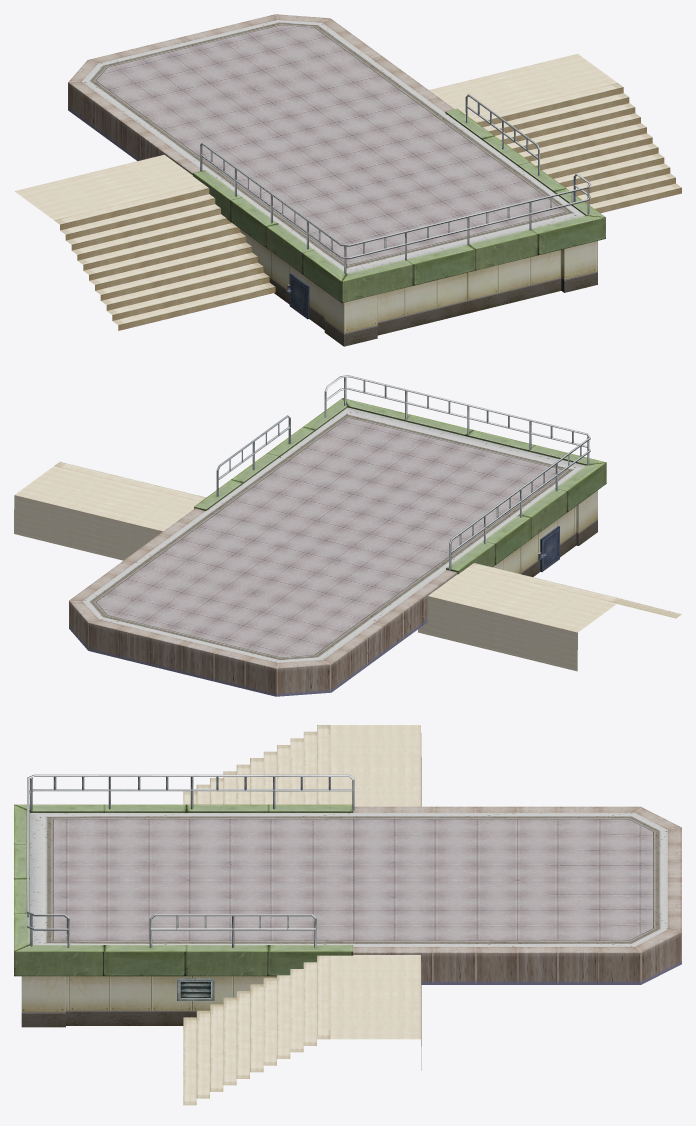
The model's file is a_SEplatform01.glb.
3 views of the same model, one above another, from view 1: azimuth 30°, elevation 25°; view 2: azimuth 150°, elevation 25°; view 3: azimuth 270°, elevation 25° (orthographic). The views are drawn at different scales.
Parts seen in each view (by area): view 1: a_SEplatform01; view 2: a_SEplatform01; view 3: a_SEplatform01.
Boxes of the visible parts, x1,y1,x2,y2 form: a_SEplatform01: (15,14,681,346); a_SEplatform01: (14,375,681,696); a_SEplatform01: (14,725,681,1105).
Size of the model in its own units: 18.1 by 3.02 by 16.27.
3 materials, 3 textured.
